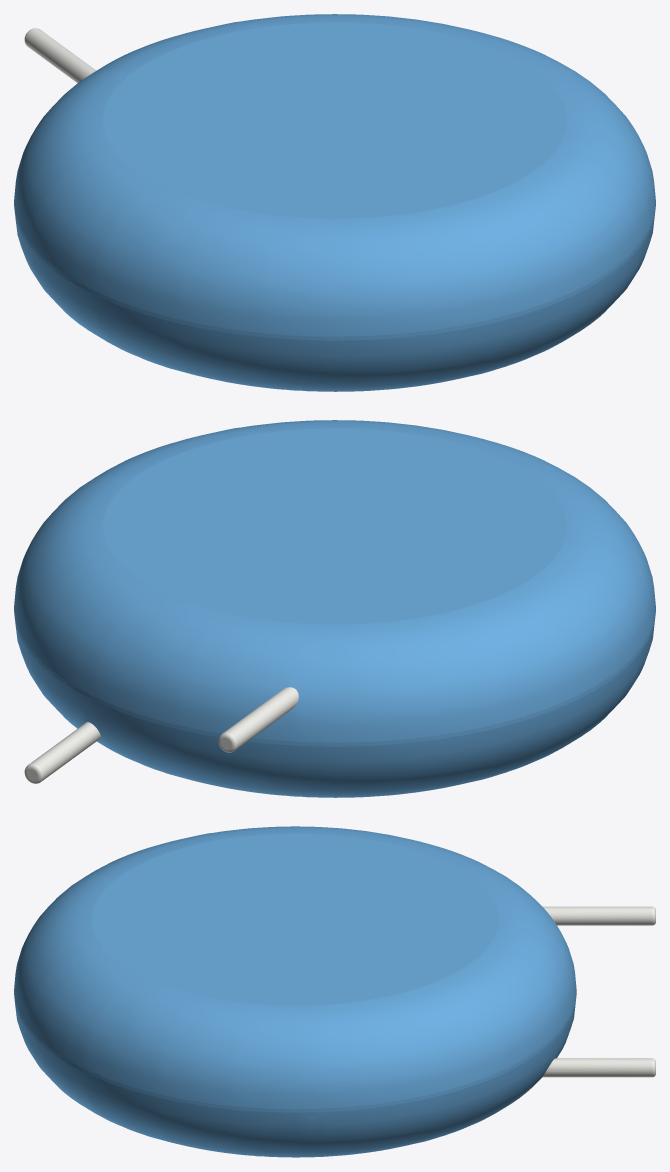
Rendered from RV_Disc_D21.5mm_W6.1mm_P7.5mm.glb.
3 views of the same model, one above another, from view 1: azimuth 30°, elevation 25°; view 2: azimuth 150°, elevation 25°; view 3: azimuth 270°, elevation 25° (orthographic). The views are drawn at different scales.
Visible parts, largest first — view 1: Shape_IndexedFaceSet.001, Shape_IndexedFaceSet.003, Shape_IndexedFaceSet.002, Shape_IndexedFaceSet, Shape_IndexedFaceSet.004; view 2: Shape_IndexedFaceSet.001, Shape_IndexedFaceSet.003, Shape_IndexedFaceSet.002, Shape_IndexedFaceSet, Shape_IndexedFaceSet.004, Shape_IndexedFaceSet.006; view 3: Shape_IndexedFaceSet.001, Shape_IndexedFaceSet.003, Shape_IndexedFaceSet.002, Shape_IndexedFaceSet, Shape_IndexedFaceSet.006, Shape_IndexedFaceSet.004.
Boxes of the visible parts, box(x1,y1,x2,y2) form: Shape_IndexedFaceSet.001: box(14, 14, 655, 336); Shape_IndexedFaceSet.003: box(103, 22, 566, 218); Shape_IndexedFaceSet.002: box(14, 209, 655, 391); Shape_IndexedFaceSet: box(14, 202, 655, 340); Shape_IndexedFaceSet.004: box(25, 28, 96, 83); Shape_IndexedFaceSet.001: box(14, 420, 655, 742); Shape_IndexedFaceSet.003: box(103, 428, 566, 624); Shape_IndexedFaceSet.002: box(14, 615, 655, 797); Shape_IndexedFaceSet: box(14, 608, 655, 746); Shape_IndexedFaceSet.004: box(223, 687, 298, 750); Shape_IndexedFaceSet.006: box(30, 722, 100, 780); Shape_IndexedFaceSet.001: box(14, 826, 576, 1109); Shape_IndexedFaceSet.003: box(92, 834, 498, 1005); Shape_IndexedFaceSet.002: box(14, 998, 576, 1157); Shape_IndexedFaceSet: box(14, 992, 576, 1112); Shape_IndexedFaceSet.006: box(542, 1058, 652, 1077); Shape_IndexedFaceSet.004: box(543, 906, 652, 925).
Size of the model in its own units: 8.47 by 2.4 by 9.66.
